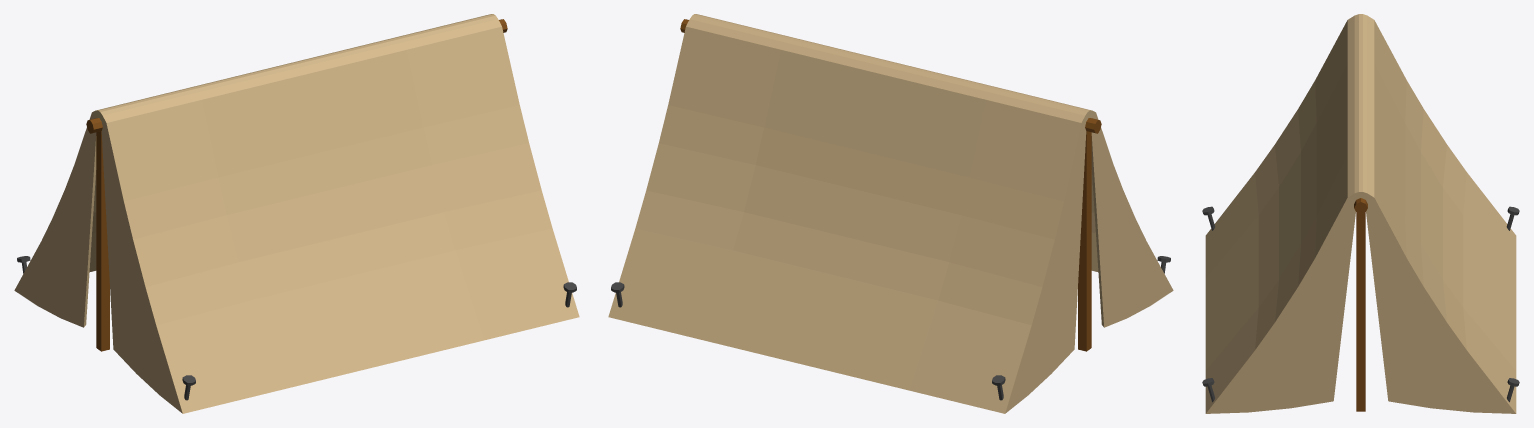
The model's file is Tent.fbx.
3 views of the same model, side by side, from view 1: azimuth 30°, elevation 25°; view 2: azimuth 150°, elevation 25°; view 3: azimuth 270°, elevation 25° (orthographic). The views are drawn at different scales.
Visible parts, largest first — view 1: Cube.289; view 2: Cube.289; view 3: Cube.289.
Boxes of the visible parts, x1,y1,x2,y2 form: Cube.289: (14, 14, 579, 413); Cube.289: (608, 14, 1173, 413); Cube.289: (1202, 14, 1519, 413).
Bounding box in the file's own units: 950 × 534 × 685.
